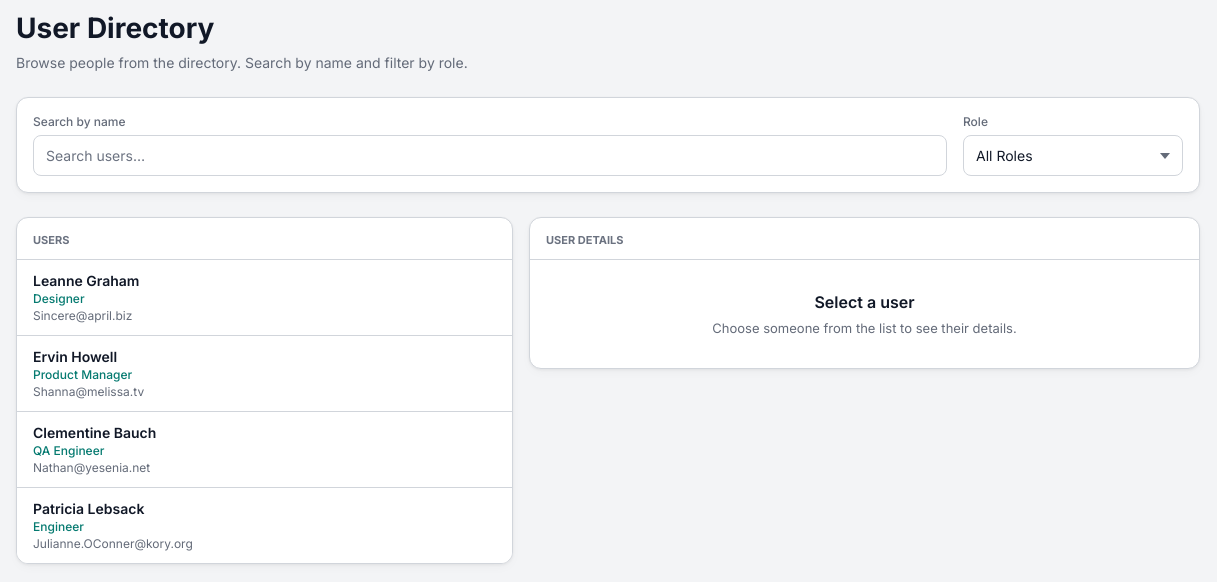
Test: User Directory › filters the list by role without matching a different role that shares a word
Check: the list named "Users" is shown, box [17,260,512,562]
Step 1. Select "Engineer" in the dropdown labelled "Role" → (1073, 156), box [963,135,1183,176]
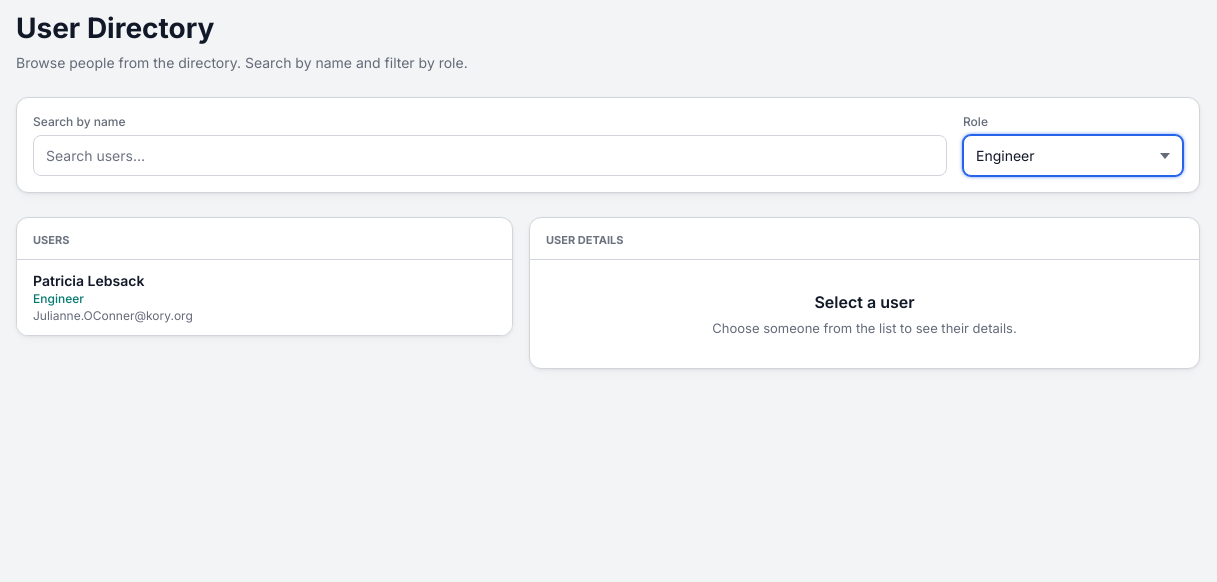
Check: the button "Clementine Bauch" is gone
Check: the button "Leanne Graham" is gone
Check: the button "Ervin Howell" is gone
